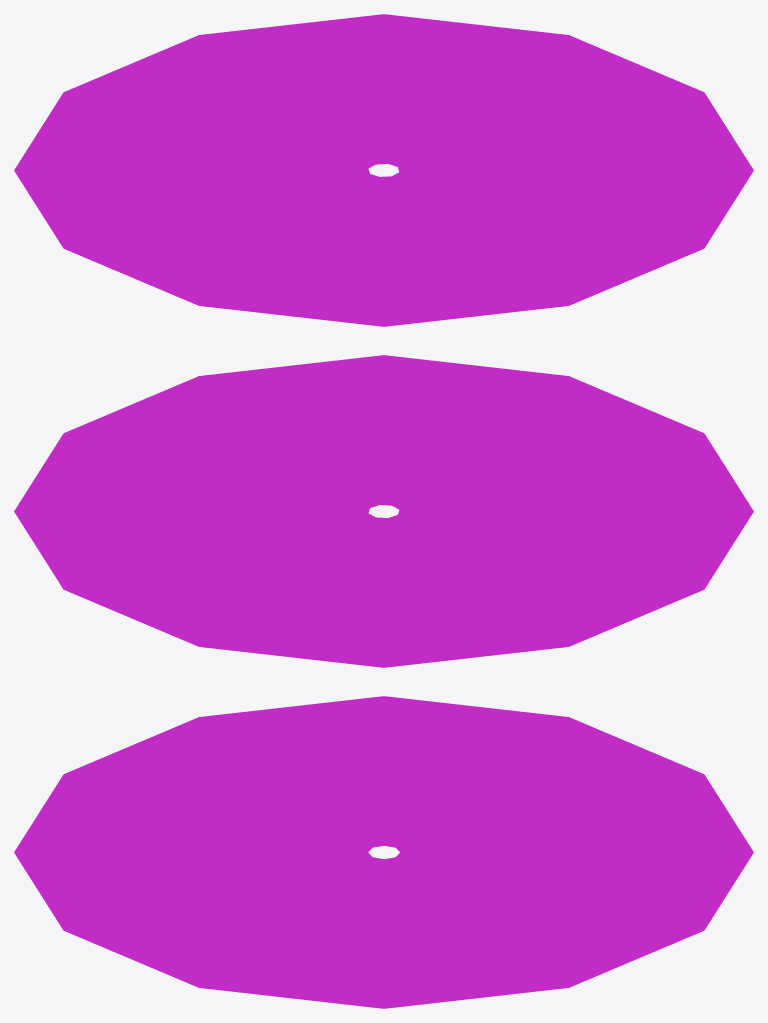
Rendered from water.fbx.
The picture shows the model from 3 angles, top to bottom: view 1: azimuth 30°, elevation 25°; view 2: azimuth 150°, elevation 25°; view 3: azimuth 270°, elevation 25°; orthographic projection.
Visible parts, largest first — view 1: water; view 2: water; view 3: water.
Part boxes in pixels (x1,y1,x2,y2): water: [14, 14, 753, 326]; water: [14, 355, 753, 667]; water: [14, 696, 753, 1008].
Bounding box in the file's own units: 5.55e+08 × 90.42 × 5.55e+08.
